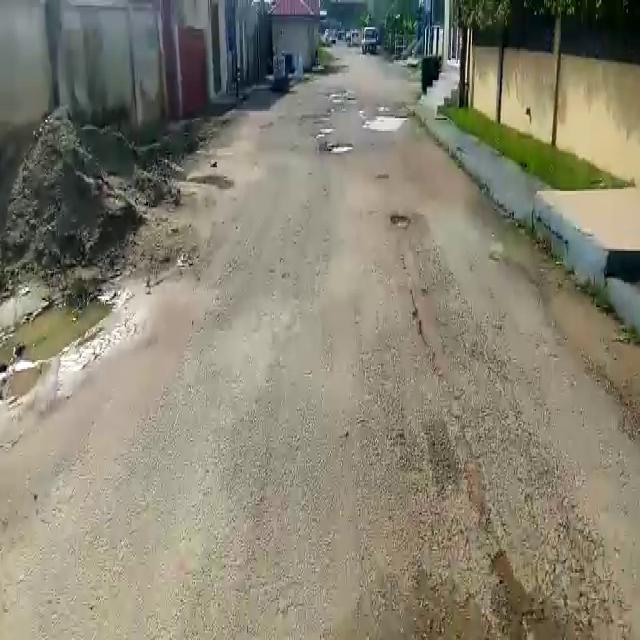pothole: (362, 115, 412, 133), (320, 141, 353, 156), (389, 213, 413, 231)
